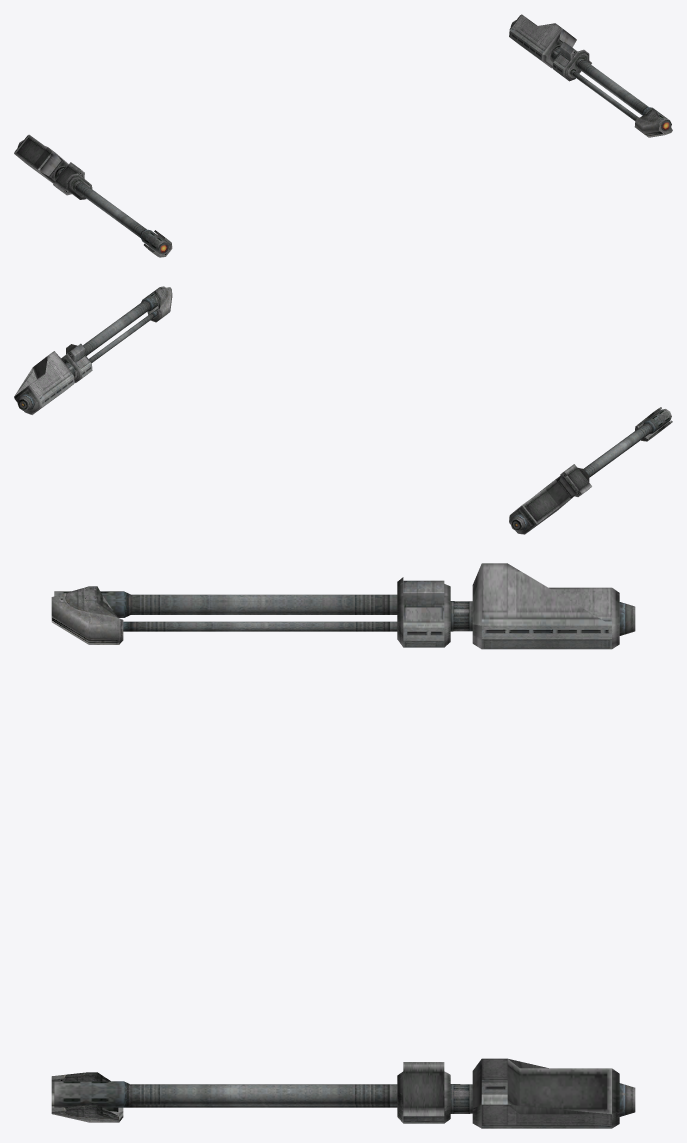
File: hutt_fighter_medium_weapon2_s06_l0.fbx
3 views of the same model, one above another, from view 1: azimuth 30°, elevation 25°; view 2: azimuth 150°, elevation 25°; view 3: azimuth 270°, elevation 25° (orthographic). The views are drawn at different scales.
Parts seen in each view (by area): view 1: mesh_node; view 2: mesh_node; view 3: mesh_node.
Boxes of the visible parts, x1,y1,x2,y2 form: mesh_node: [14, 14, 672, 257]; mesh_node: [14, 286, 672, 534]; mesh_node: [51, 563, 635, 1128].
Bounding box in the file's own units: 13.74 × 0.9261 × 6.45.
